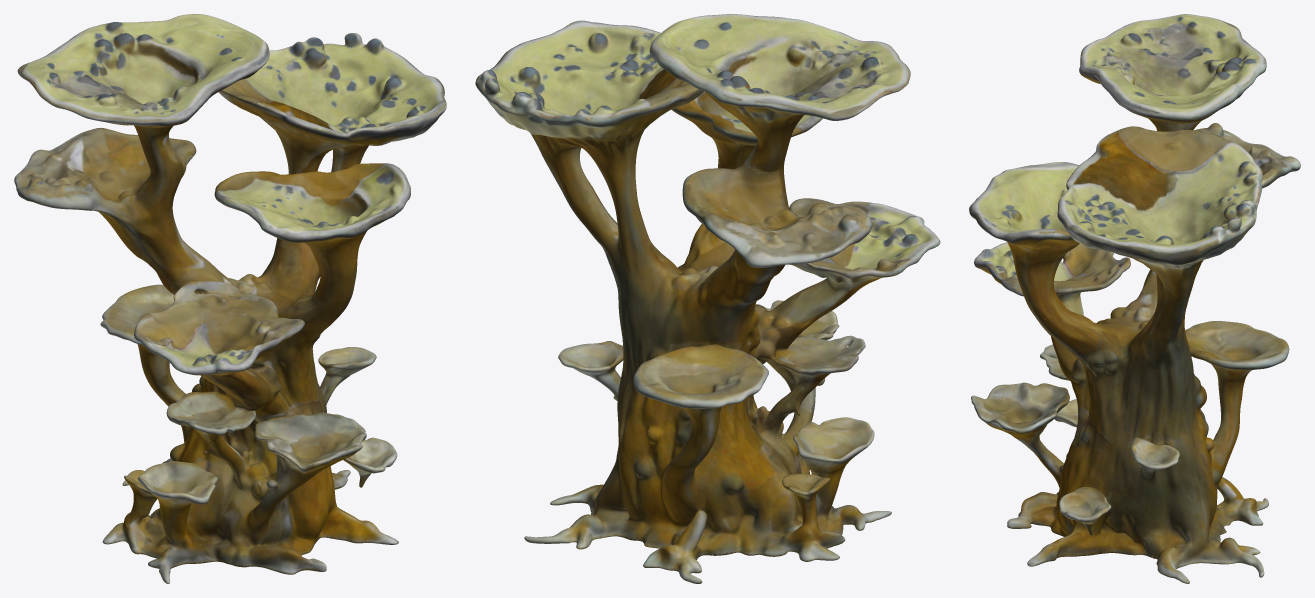
Rendered from winter-tree4.glb.
The picture shows the model from 3 angles, left to right: view 1: azimuth 30°, elevation 25°; view 2: azimuth 150°, elevation 25°; view 3: azimuth 270°, elevation 25°; orthographic projection. The views are drawn at different scales.
Size of the model in its own units: 1.7 by 2.01 by 1.38.
Materials: 1 (1 with a texture image).
